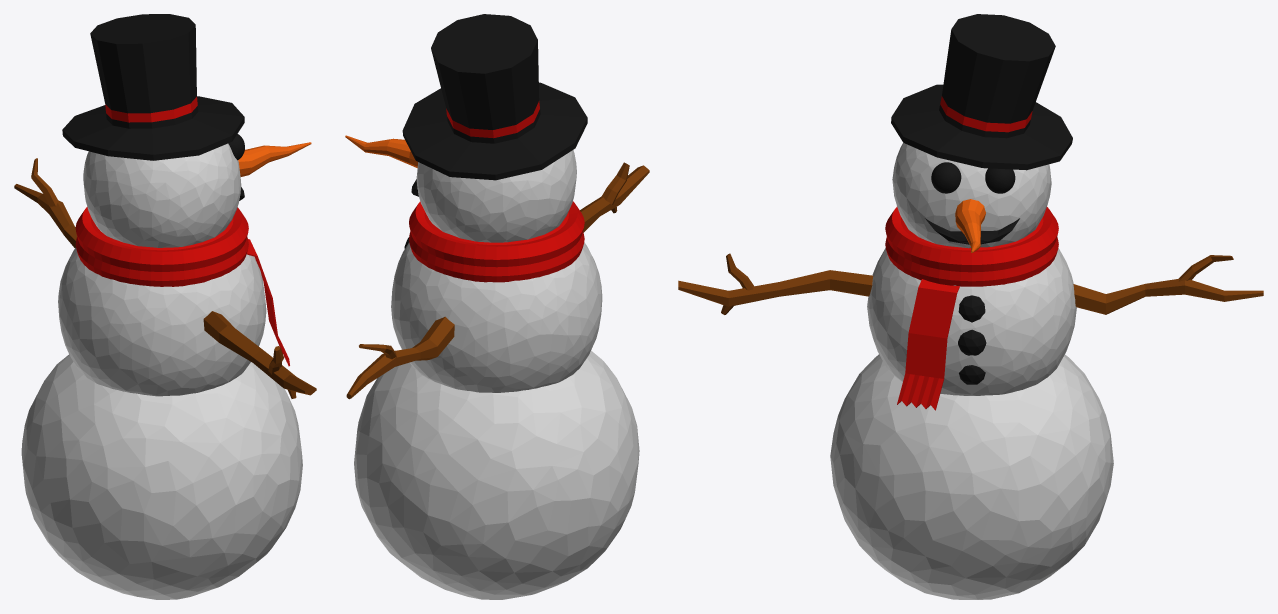
File: Snowman.fbx
The picture shows the model from 3 angles, left to right: view 1: azimuth 30°, elevation 25°; view 2: azimuth 150°, elevation 25°; view 3: azimuth 270°, elevation 25°; orthographic projection.
Parts seen in each view (by area): view 1: Icosphere, Icosphere.001, Cylinder.001, Icosphere.002, Torus, Cylinder.002, Cylinder.003, Cylinder, Cube; view 2: Icosphere, Icosphere.001, Cylinder.001, Icosphere.002, Torus, Cylinder.003, Cylinder.002, Cylinder; view 3: Icosphere, Cylinder.001, Icosphere.001, Icosphere.002, Torus, Cube, Cylinder.002, Cylinder.003, Cylinder, Icosphere.008, Icosphere.006.
Boxes of the visible parts, left/top/right/bottom form: Icosphere: left=21, top=354, right=302, bottom=599; Icosphere.001: left=58, top=247, right=266, bottom=396; Cylinder.001: left=62, top=14, right=244, bottom=160; Icosphere.002: left=83, top=143, right=241, bottom=247; Torus: left=75, top=207, right=248, bottom=286; Cylinder.002: left=203, top=311, right=316, bottom=398; Cylinder.003: left=14, top=158, right=77, bottom=247; Cylinder: left=238, top=142, right=311, bottom=176; Cube: left=246, top=239, right=289, bottom=366; Icosphere: left=354, top=351, right=639, bottom=599; Icosphere.001: left=391, top=242, right=602, bottom=392; Cylinder.001: left=402, top=14, right=587, bottom=180; Icosphere.002: left=416, top=150, right=576, bottom=242; Torus: left=409, top=201, right=584, bottom=282; Cylinder.003: left=346, top=316, right=454, bottom=399; Cylinder.002: left=580, top=162, right=649, bottom=232; Cylinder: left=345, top=135, right=417, bottom=168; Icosphere: left=830, top=354, right=1113, bottom=599; Cylinder.001: left=891, top=14, right=1072, bottom=170; Icosphere.001: left=867, top=248, right=1076, bottom=395; Icosphere.002: left=892, top=143, right=1051, bottom=248; Torus: left=885, top=207, right=1058, bottom=286; Cube: left=897, top=279, right=959, bottom=410; Cylinder.002: left=678, top=253, right=873, bottom=314; Cylinder.003: left=1073, top=255, right=1263, bottom=314; Cylinder: left=955, top=199, right=985, bottom=252; Icosphere.008: left=925, top=218, right=1019, bottom=244; Icosphere.006: left=931, top=162, right=961, bottom=193.
Bounding box in the file's own units: 206 × 405 × 386.
